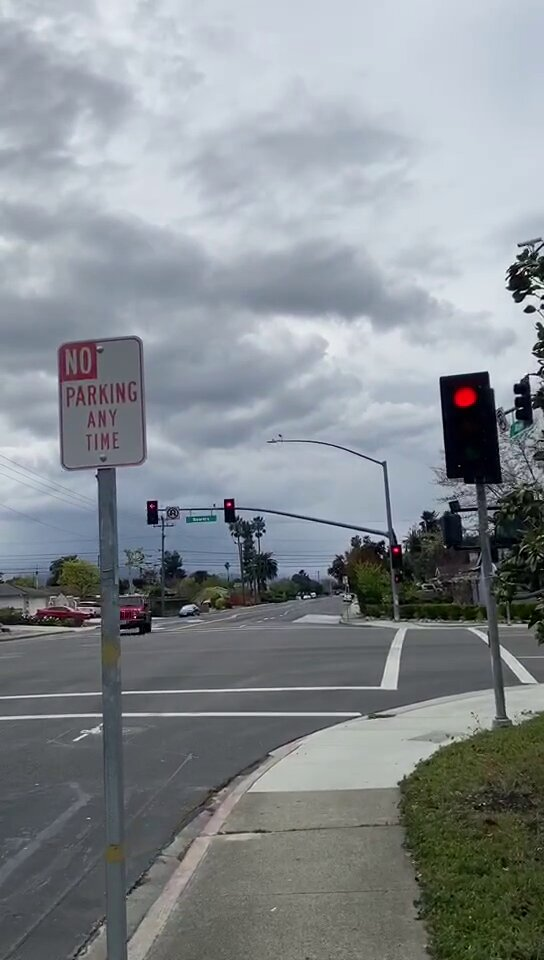red_light: (440, 375, 494, 481), (225, 495, 236, 525), (147, 501, 160, 524), (392, 544, 402, 567)
